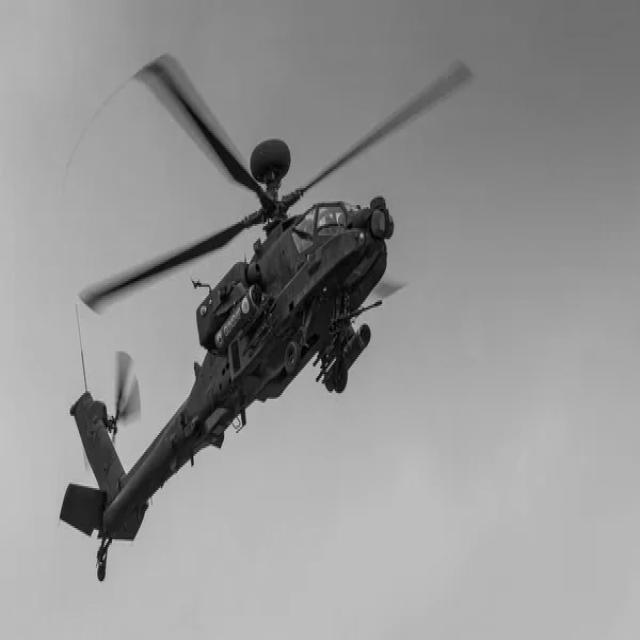Helicopter: (60, 55, 472, 580)
